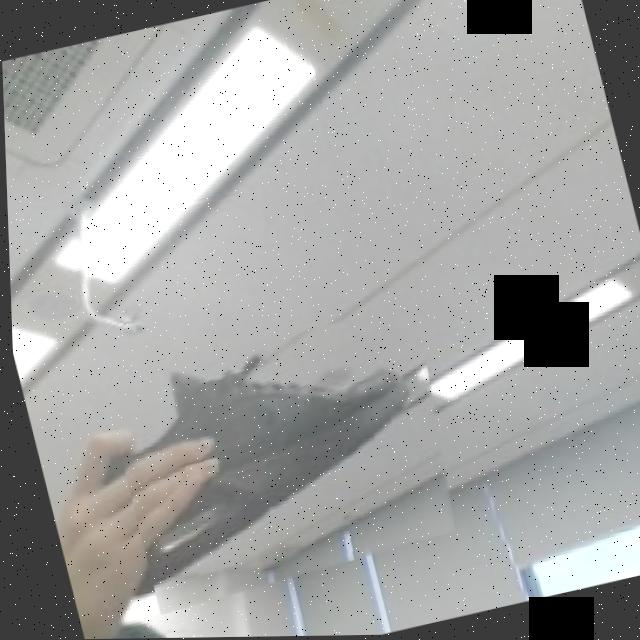shoe: (97, 305, 475, 616)
